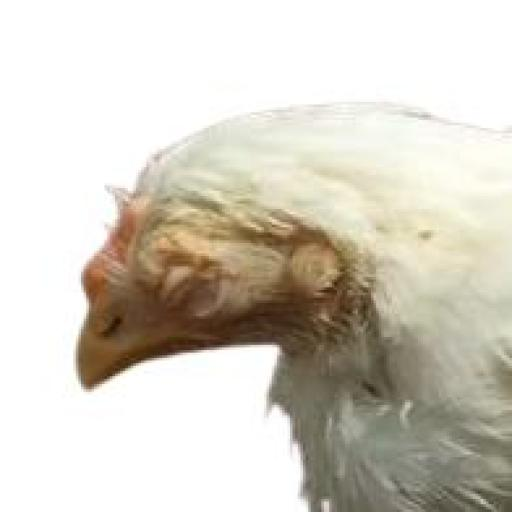disease: (142, 238, 233, 324)
